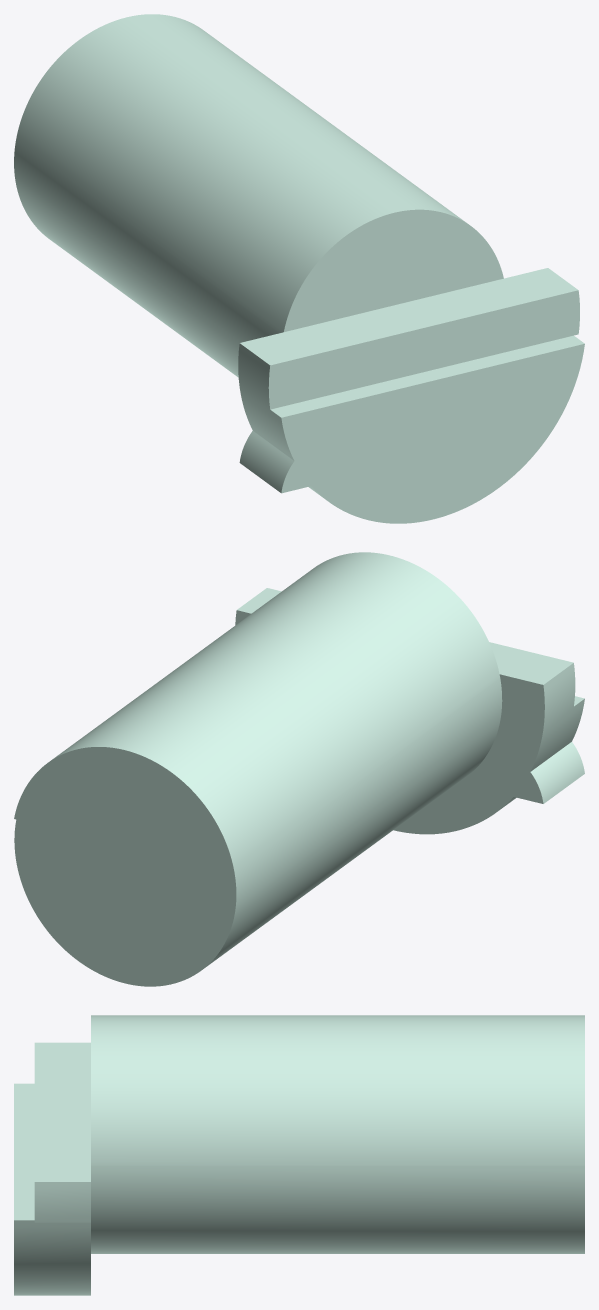
The picture shows the model from 3 angles, top to bottom: view 1: azimuth 30°, elevation 25°; view 2: azimuth 150°, elevation 25°; view 3: azimuth 270°, elevation 25°; orthographic projection. The views are drawn at different scales.
Visible parts, largest first — view 1: Renderer Node; view 2: Renderer Node; view 3: Renderer Node.
Part boxes in pixels (x1,y1,x2,y2): Renderer Node: [14, 14, 584, 523]; Renderer Node: [14, 552, 584, 986]; Renderer Node: [14, 1015, 584, 1295].
Size of the model in its own units: 0.5046 by 0.4267 by 0.8672.
